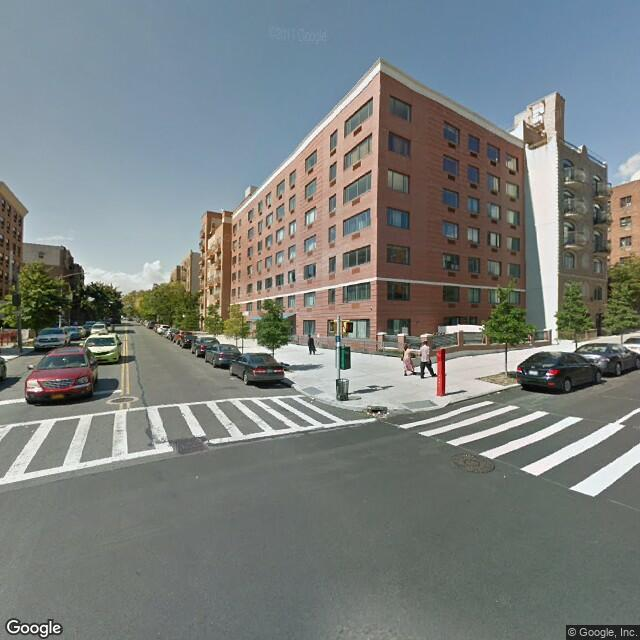litter: (363, 408, 395, 422)
